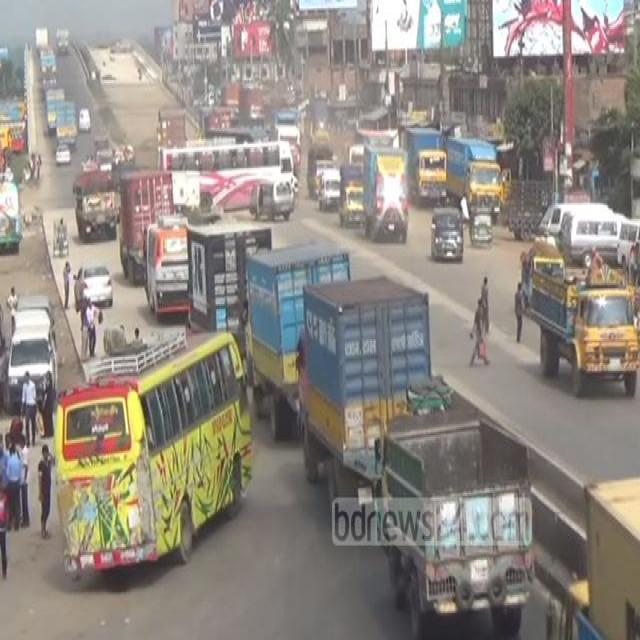vehicle: (53, 327, 255, 568), (378, 406, 536, 627), (296, 275, 433, 502), (242, 233, 351, 438), (529, 257, 639, 395), (156, 136, 294, 215), (185, 220, 273, 339), (116, 167, 174, 286), (445, 132, 504, 212), (362, 141, 409, 239), (7, 312, 58, 400), (145, 214, 188, 316), (560, 205, 619, 264), (74, 168, 118, 240), (407, 127, 447, 198), (247, 174, 295, 222), (430, 204, 464, 262), (336, 164, 364, 228), (73, 261, 113, 304), (305, 141, 333, 192), (468, 203, 493, 248), (316, 166, 340, 211), (54, 99, 78, 144), (45, 86, 65, 131), (54, 140, 72, 164)
